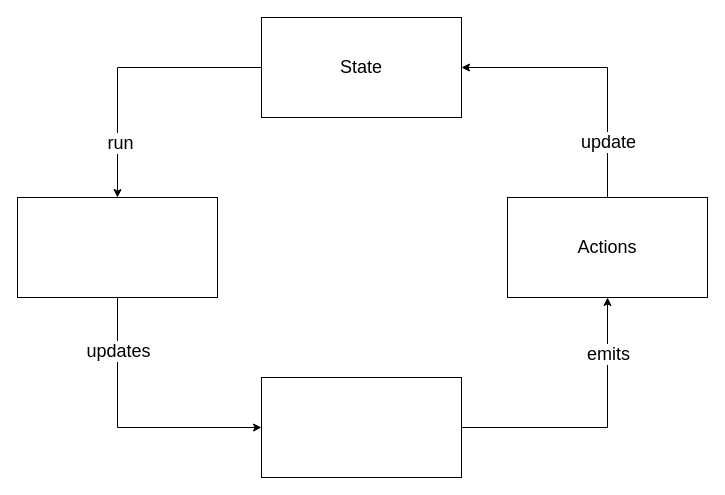
The diagram is 725 pixels wide and 495 high, and some of its shapes have lost their labels. Here are the shapes that lost their labels. From the top down, the centre of each, then its label:
At (117,247): "Rendering".
At (361,427): "Iterface".
